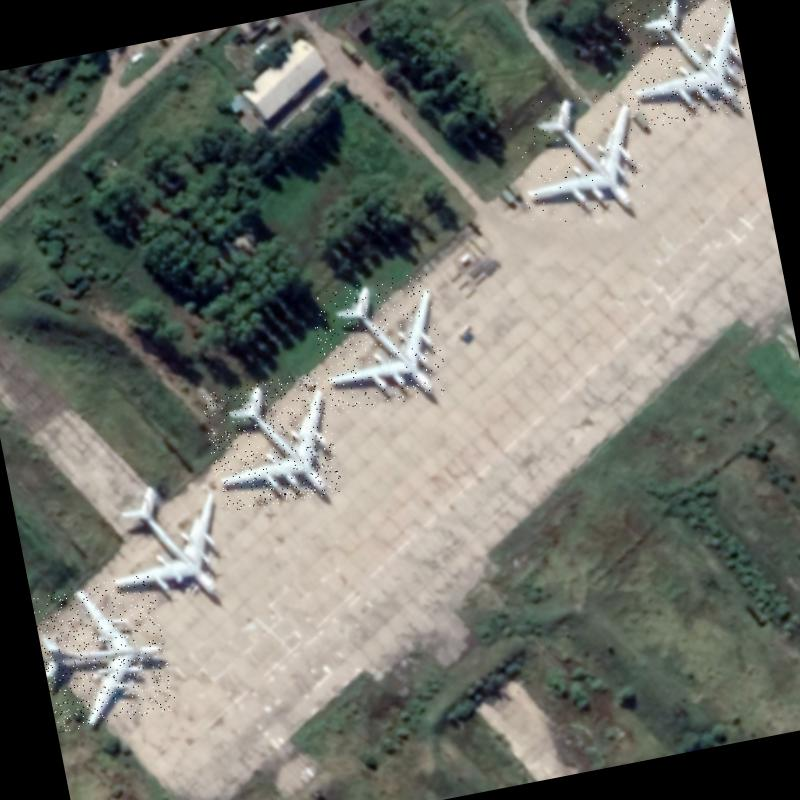A17: (31, 572, 177, 732), (91, 470, 235, 618), (506, 84, 650, 231), (199, 370, 343, 515), (307, 270, 449, 416), (611, 0, 749, 130)
